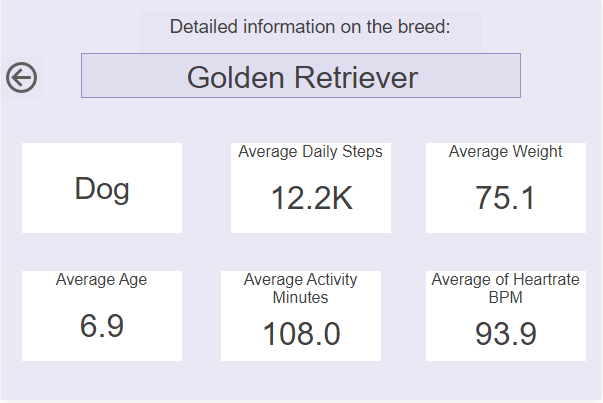

What the dashboard file says about the page in this screenshot:
{"tool":"powerbi","page":{"name":"DT breed","canvas":[600,400],"ordinal":3},"visuals":[{"type":"actionButton","box":[0,57,43,41],"z":0},{"type":"card","fields":{"Values":["Min(Pet_Data.Breed)"]},"box":[80,53,440,45],"z":1000},{"type":"card","title":"Average Weight","fields":{"Values":["Avg(Pet_Data.Weight)"]},"box":[425,143,160,90],"z":2000},{"type":"card","title":"Average Age","fields":{"Values":["Avg(Pet_Data.Age)"]},"box":[21,271,160,90],"z":3000},{"type":"card","title":"Average Daily Steps","fields":{"Values":["Avg(Tracker_Data.Daily_Steps)"]},"box":[230,143,160,90],"z":4000},{"type":"card","title":"Average Activity Minutes","fields":{"Values":["Avg(Tracker_Data.Activity_Minutes)"]},"box":[220,271,160,90],"z":5000},{"type":"card","title":"Average of Heartrate BPM","fields":{"Values":["Avg(Tracker_Data.Heartrate_BPM)"]},"box":[425,271,160,90],"z":6000},{"type":"textbox","box":[138,11,343,42],"z":7000},{"type":"card","fields":{"Values":["Min(Pet_Data.Dog/Cat)"]},"box":[21,143,160,90],"z":8000}]}

Visuals, with their boxes in screenshot pixels (x1, y1, x2, y2), scaled from the page's 600x400 canvas onto the 603x403 screenshot:
actionButton: crop(0, 57, 43, 99)
card - Min(Pet_Data.Breed): crop(80, 53, 523, 99)
"Average Weight" card: crop(427, 144, 588, 235)
"Average Age" card: crop(21, 273, 182, 364)
"Average Daily Steps" card: crop(231, 144, 392, 235)
"Average Activity Minutes" card: crop(221, 273, 382, 364)
"Average of Heartrate BPM" card: crop(427, 273, 588, 364)
textbox: crop(139, 11, 483, 53)
card - Min(Pet_Data.Dog/Cat): crop(21, 144, 182, 235)
